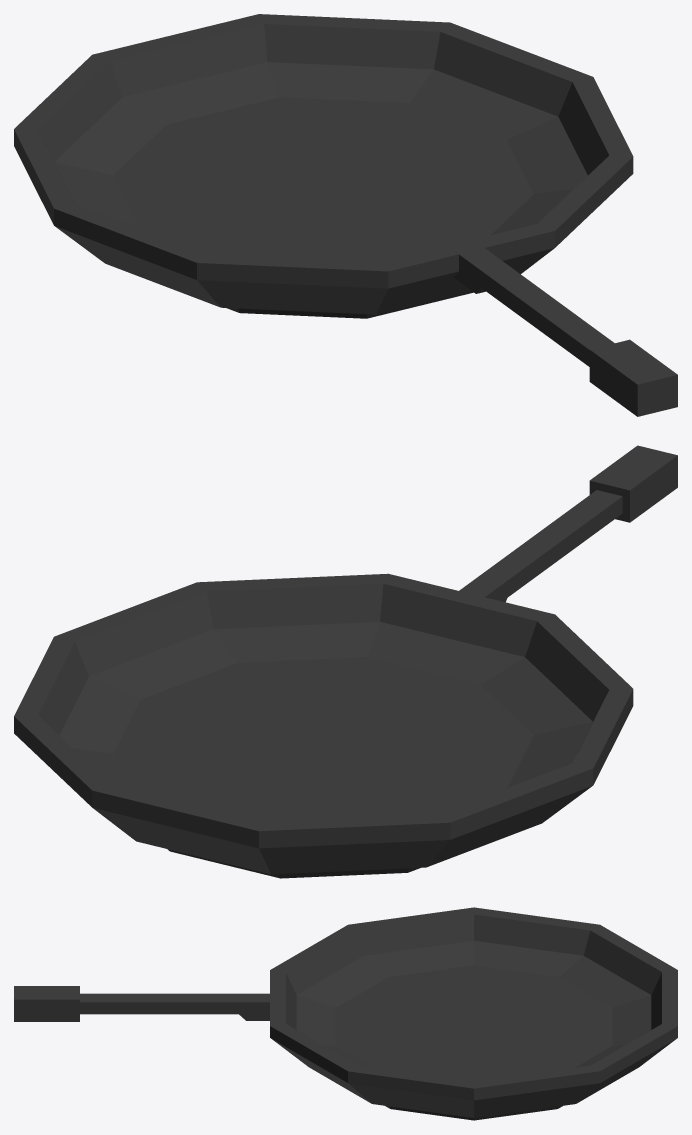
The model's file is Pan_1.fbx.
The picture shows the model from 3 angles, top to bottom: view 1: azimuth 30°, elevation 25°; view 2: azimuth 150°, elevation 25°; view 3: azimuth 270°, elevation 25°; orthographic projection. The views are drawn at different scales.
Parts seen in each view (by area): view 1: Pan_1; view 2: Pan_1; view 3: Pan_1.
Boxes of the visible parts, x1,y1,x2,y2 form: Pan_1: [14, 14, 677, 416]; Pan_1: [14, 445, 677, 878]; Pan_1: [14, 907, 677, 1120].
Bounding box in the file's own units: 50.41 × 8.75 × 78.05.
